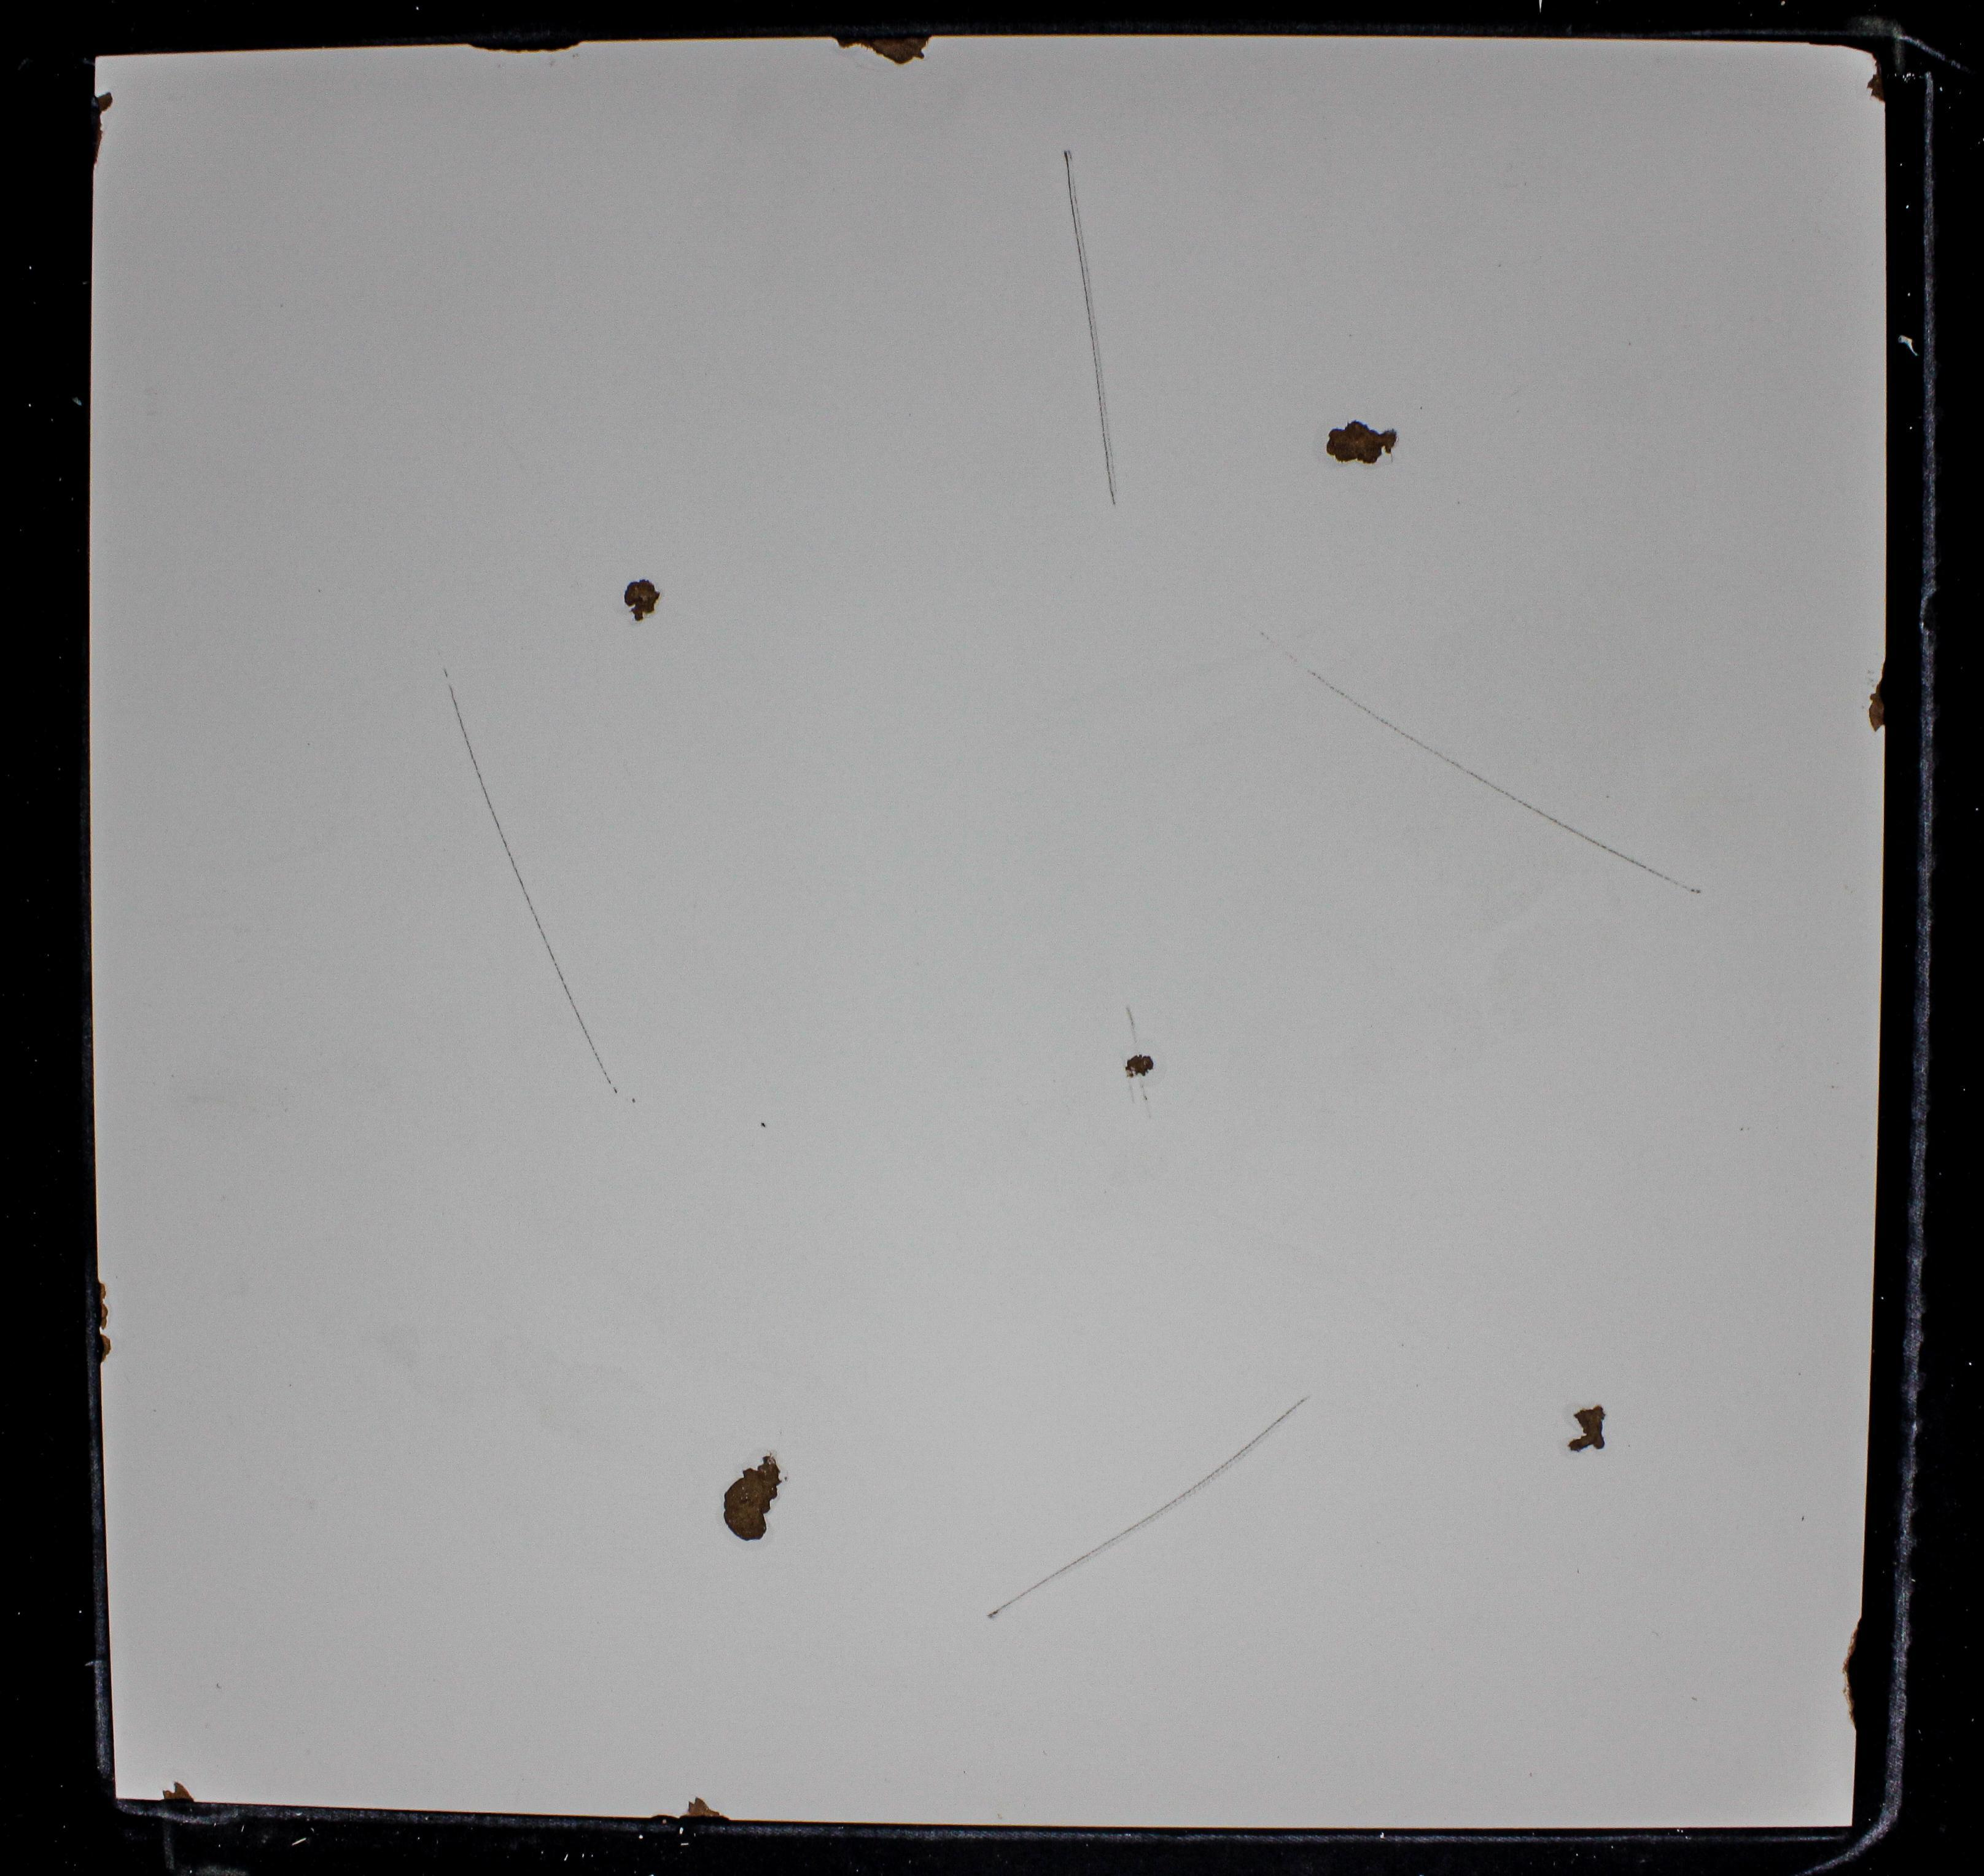edge-chipping: (832, 23, 933, 67), (1841, 1615, 1864, 1731), (466, 37, 584, 55), (679, 1795, 732, 1827), (1868, 661, 1887, 733), (1866, 55, 1889, 104), (1809, 41, 1889, 53), (159, 1779, 196, 1805), (95, 1277, 109, 1331), (92, 116, 104, 168), (92, 92, 115, 115), (97, 1333, 113, 1365)
hole: (721, 1451, 785, 1545), (1324, 414, 1398, 465), (619, 575, 663, 624), (1566, 1403, 1608, 1455), (1120, 1051, 1155, 1081)
line: (986, 1395, 1310, 1620), (1062, 146, 1136, 515), (1305, 670, 1497, 786), (1499, 792, 1705, 896), (522, 885, 619, 1095), (443, 666, 524, 882)
